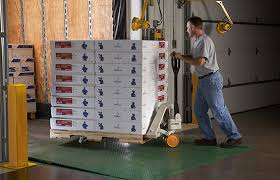Pallet Jack: (48, 52, 184, 150)
